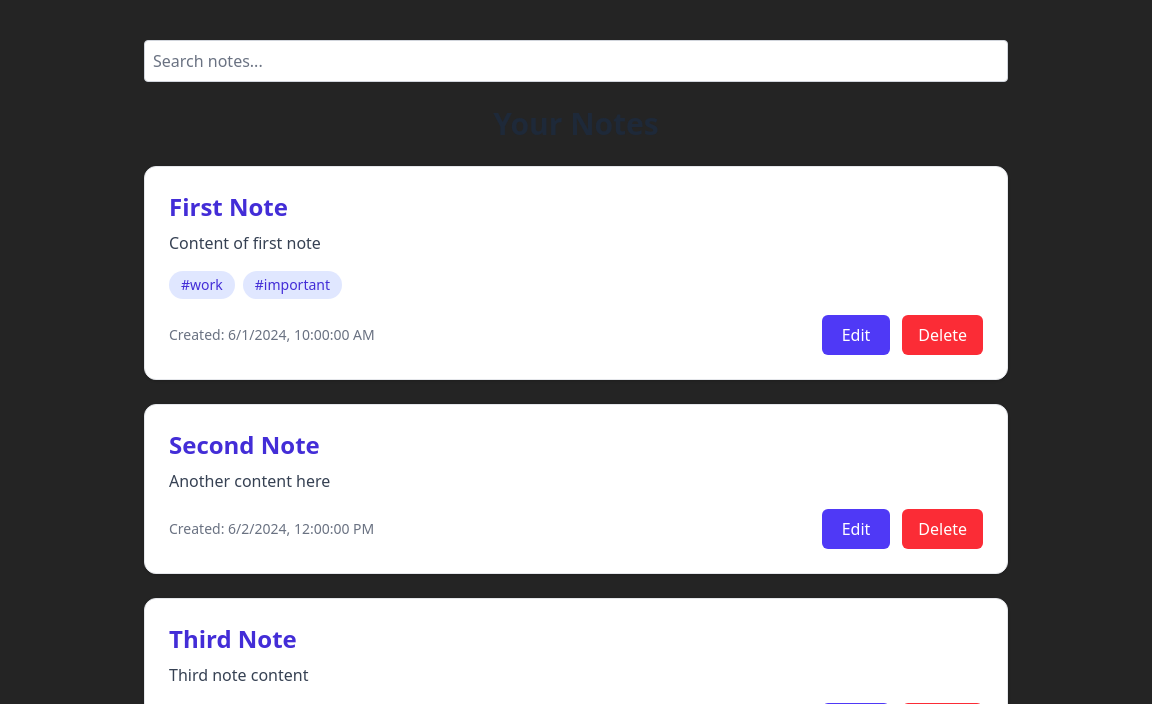
Test: NotesList › shows 'No notes found.' when search yields no results
Type "nonexistent" into the field with placeholder "Search notes..." at coordinates (576, 61), box [144,40,1008,82]
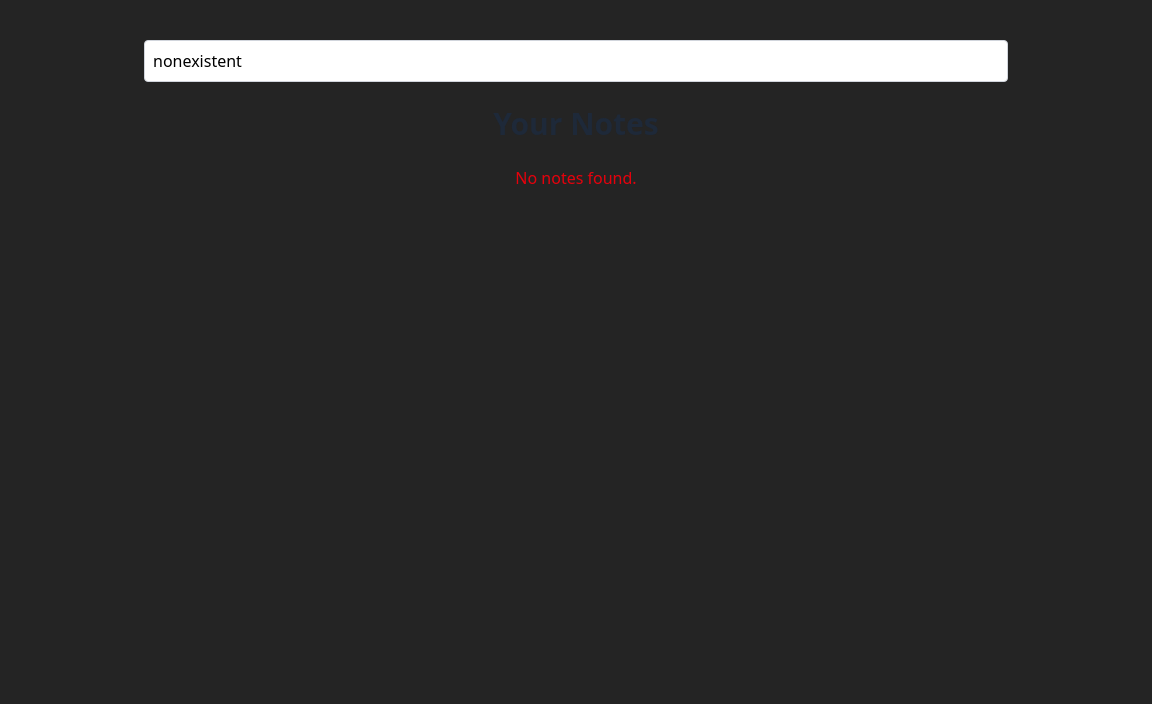
Result: the text "No notes found." is shown at [515,167,637,189]
